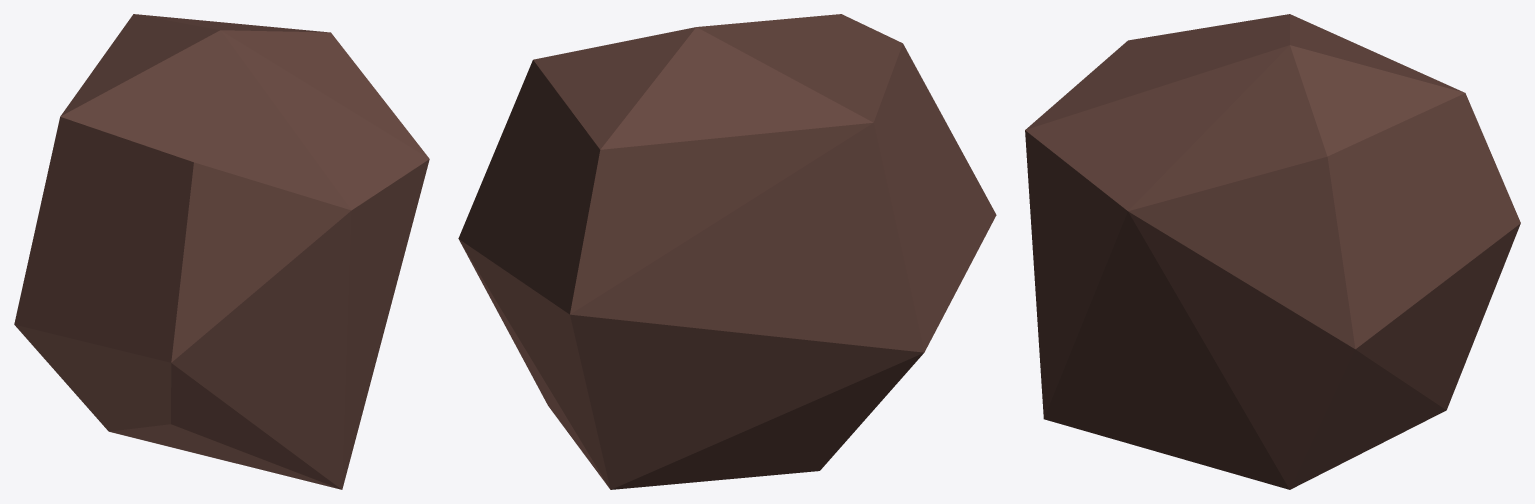
Rendered from Rock-A10.fbx.
3 views of the same model, side by side, from view 1: azimuth 30°, elevation 25°; view 2: azimuth 150°, elevation 25°; view 3: azimuth 270°, elevation 25° (orthographic). The views are drawn at different scales.
Parts seen in each view (by area): view 1: Rock-A10; view 2: Rock-A10; view 3: Rock-A10.
Boxes of the visible parts, x1,y1,x2,y2 form: Rock-A10: (14,14,429,489); Rock-A10: (458,14,996,489); Rock-A10: (1025,14,1520,489).
Bounding box in the file's own units: 52.8 × 48.66 × 57.74.
